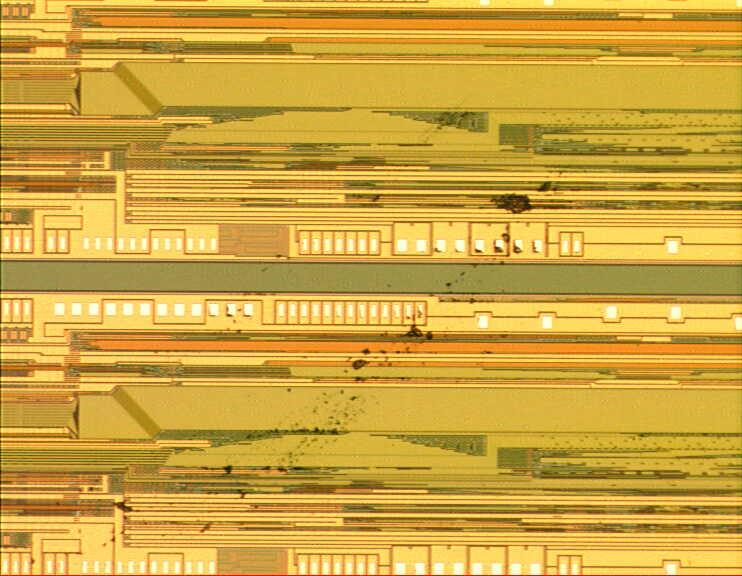PO CONTAMINATION: (92, 92, 579, 556)
